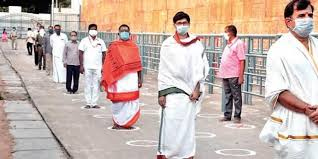Social Distance: (14, 8, 313, 154)
